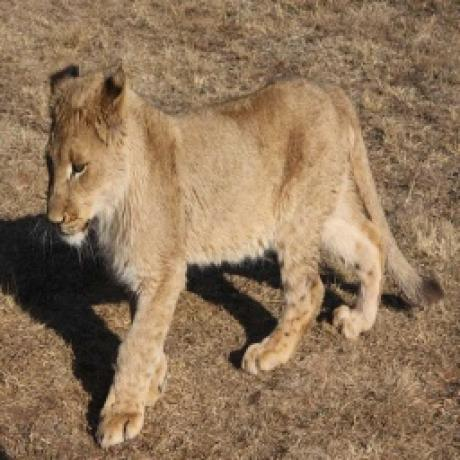Lion: (40, 58, 448, 449)
